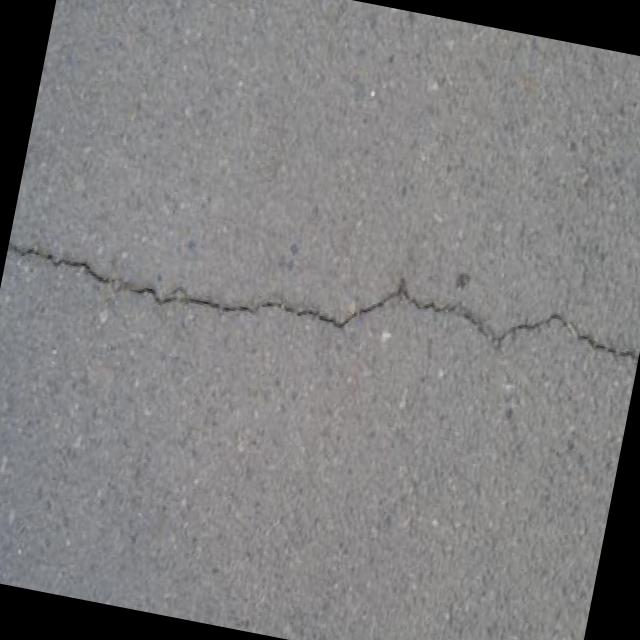Retak-Melintang: (10, 240, 640, 359)
